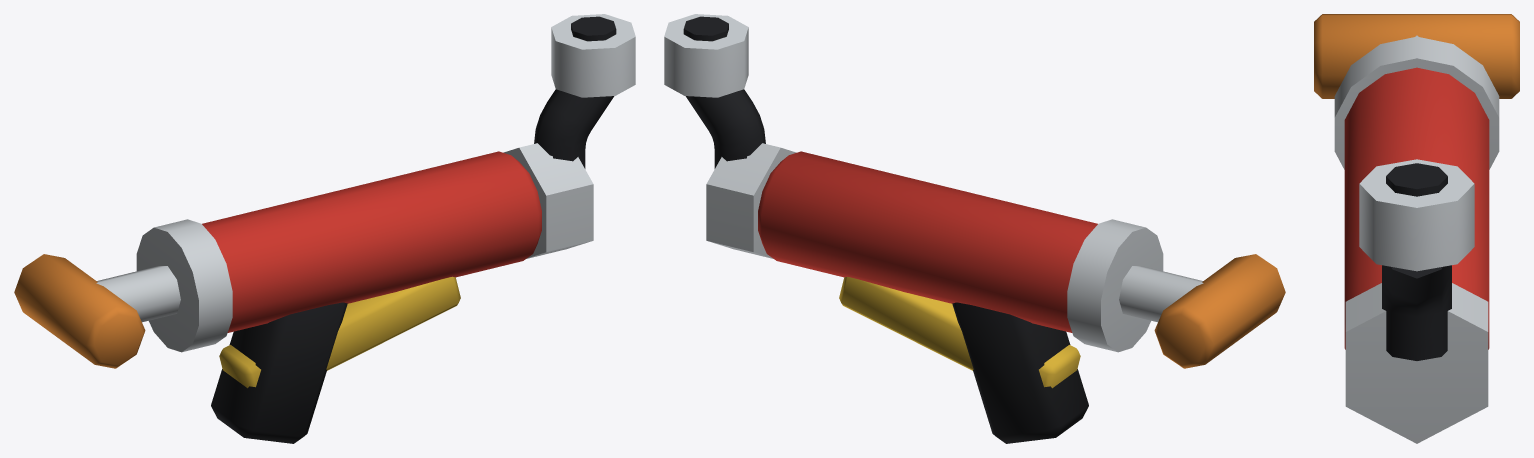
Rendered from SM_GreaseGun_01.glb.
3 views of the same model, side by side, from view 1: azimuth 30°, elevation 25°; view 2: azimuth 150°, elevation 25°; view 3: azimuth 270°, elevation 25° (orthographic). The views are drawn at different scales.
Visible parts, largest first — view 1: SM_GreaseGun_01; view 2: SM_GreaseGun_01; view 3: SM_GreaseGun_01.
Boxes of the visible parts, <box> form: SM_GreaseGun_01: <box>14,14,635,443</box>; SM_GreaseGun_01: <box>664,14,1285,443</box>; SM_GreaseGun_01: <box>1314,14,1519,443</box>.
Bounding box in the file's own units: 0.43 × 0.2344 × 0.1.
Materials: 1 (1 with a texture image).
